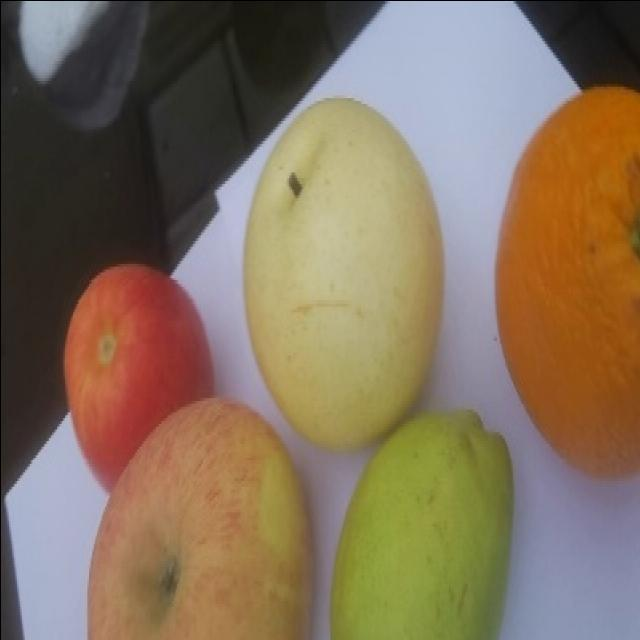Apple: (86, 396, 314, 639), (62, 262, 215, 494)
Orange: (494, 84, 639, 479)
